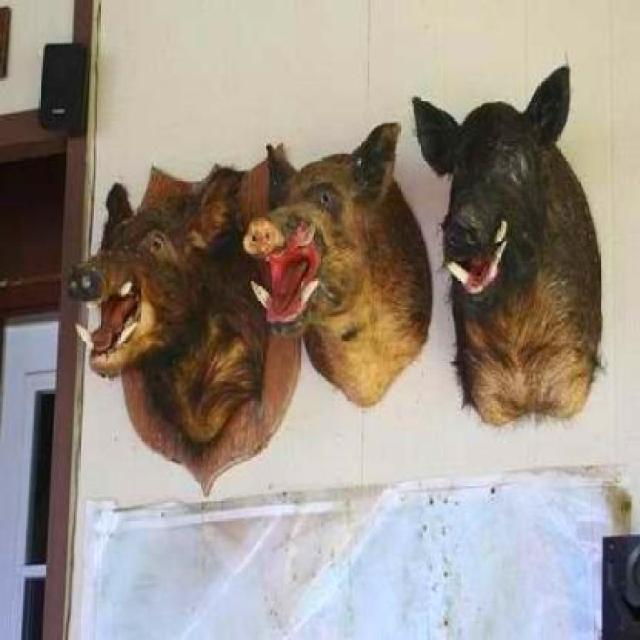Boar: (424, 57, 582, 414)
